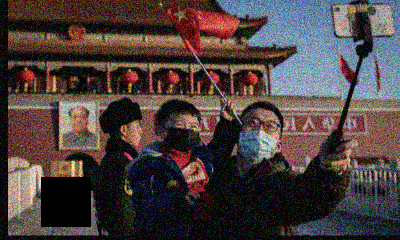with_mask: (237, 113, 279, 162), (165, 118, 200, 150)
without_mask: (127, 120, 142, 146)
